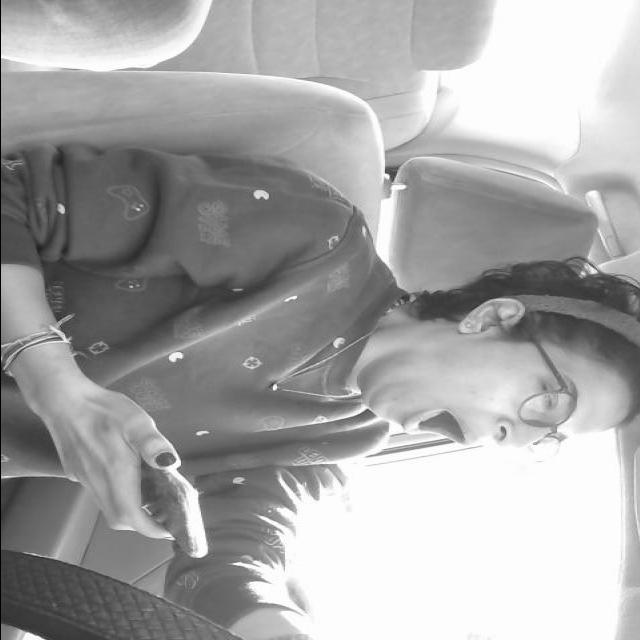mobile use: (64, 437, 206, 563)
